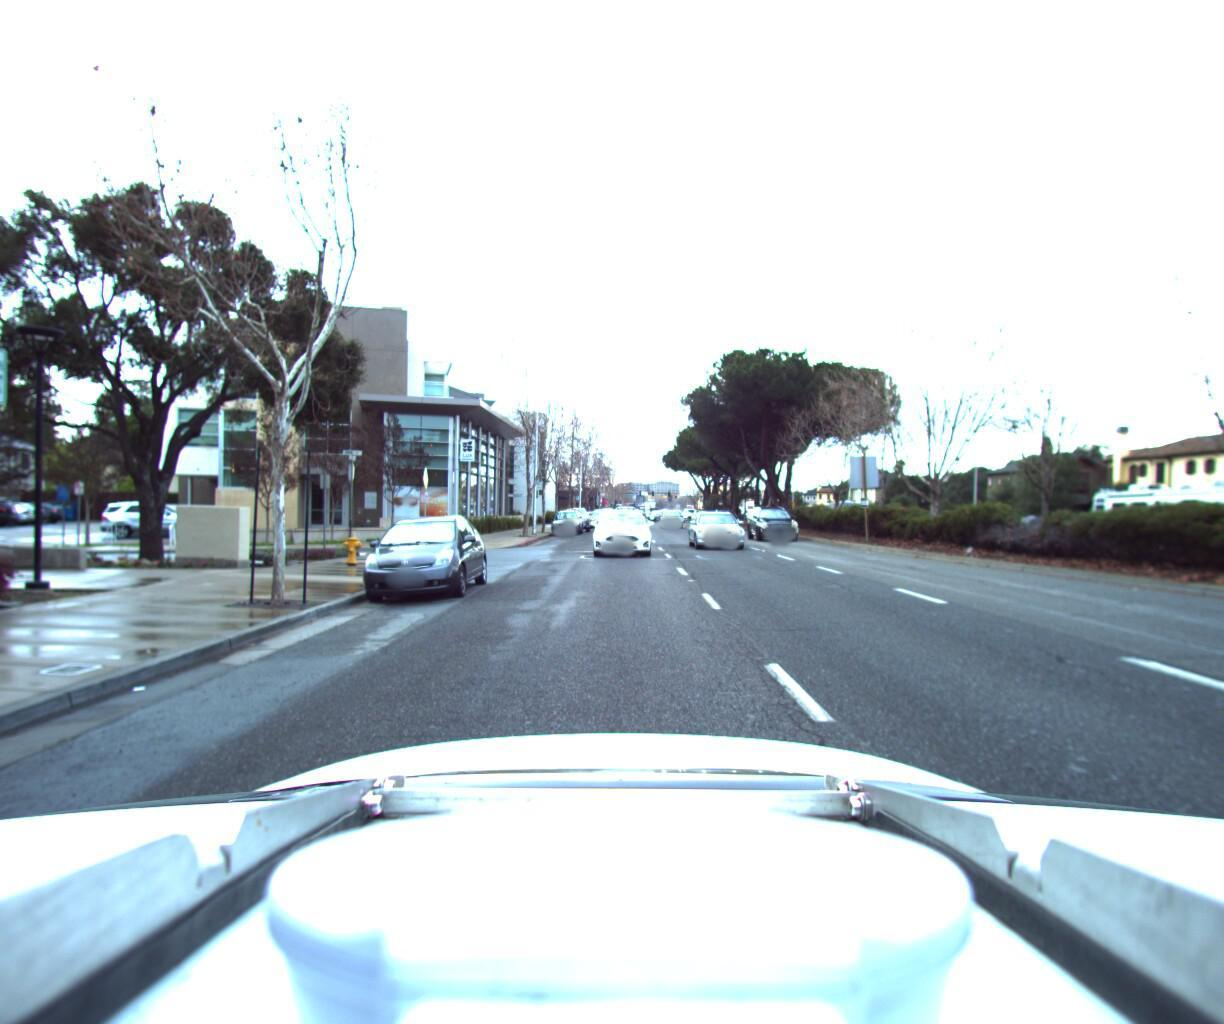car: (354, 507, 494, 607), (688, 499, 754, 550), (589, 499, 649, 553), (748, 497, 810, 538), (548, 499, 584, 529), (558, 498, 593, 526), (606, 497, 637, 523), (651, 500, 680, 522), (583, 501, 604, 518)
other_vehicle: (1077, 466, 1224, 557)
